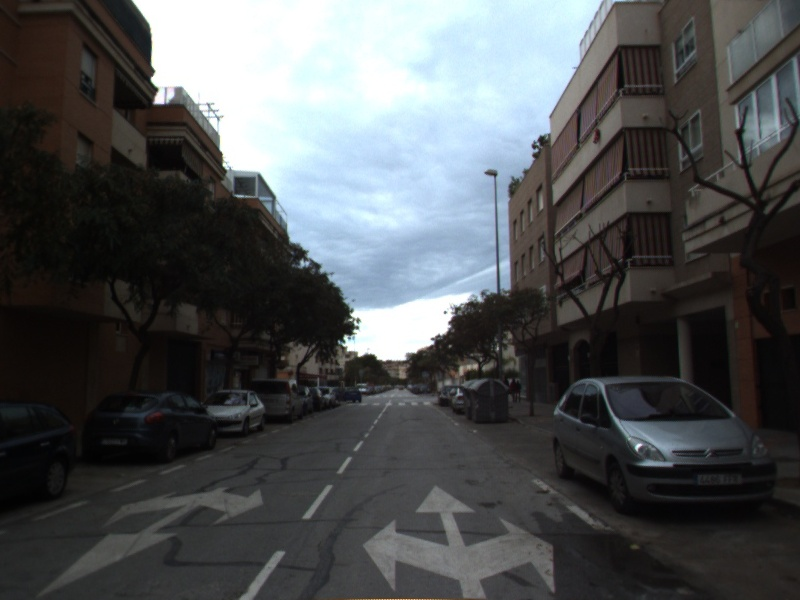STRAIGHT_LEFT_RIGHT: (359, 481, 557, 600)
